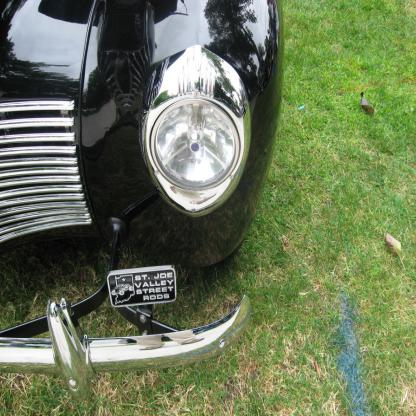Car: (7, 34, 285, 370)
